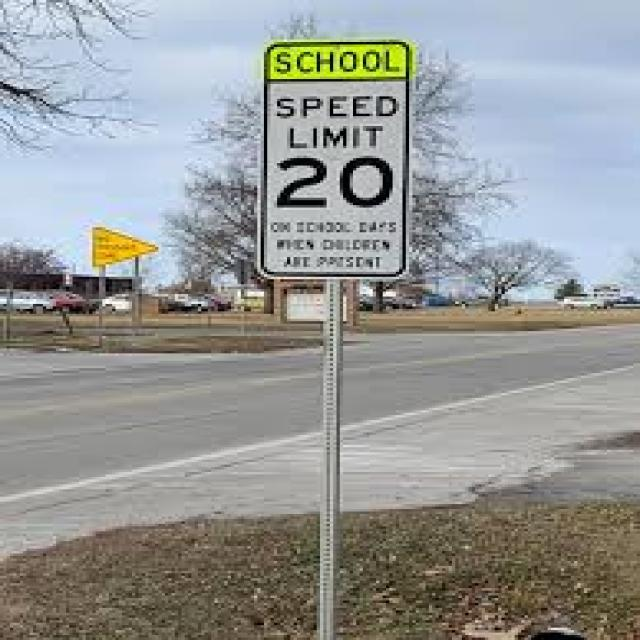speedLimit20: (269, 81, 407, 218)
